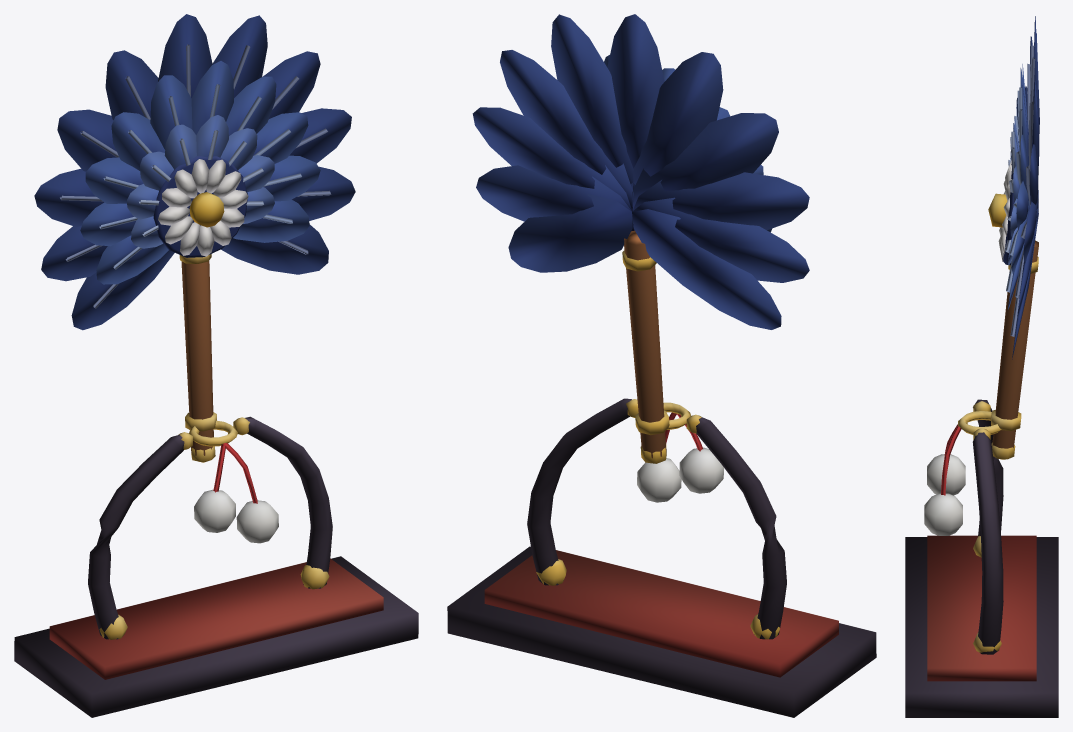
File: furn-trophyTenguFan.glb
The picture shows the model from 3 angles, left to right: view 1: azimuth 30°, elevation 25°; view 2: azimuth 150°, elevation 25°; view 3: azimuth 270°, elevation 25°; orthographic projection. The views are drawn at different scales.
Visible parts, largest first — view 1: furn-trophyTenguFan; view 2: furn-trophyTenguFan; view 3: furn-trophyTenguFan.
Boxes of the visible parts, x1,y1,x2,y2 form: furn-trophyTenguFan: (14,14,418,717); furn-trophyTenguFan: (447,14,876,717); furn-trophyTenguFan: (905,16,1058,717).
Bounding box in the file's own units: 0.6805 × 1.23 × 0.28.
